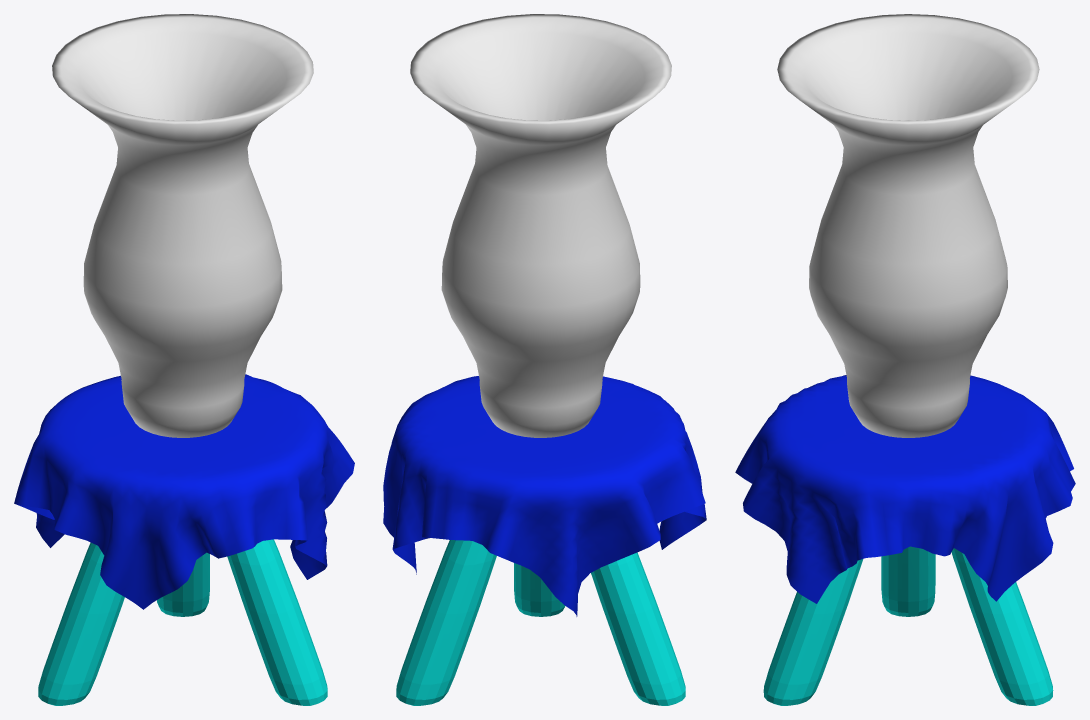
Rendered from bigescup.fbx.
The picture shows the model from 3 angles, left to right: view 1: azimuth 30°, elevation 25°; view 2: azimuth 150°, elevation 25°; view 3: azimuth 270°, elevation 25°; orthographic projection.
Visible parts, largest first — view 1: Cube.008; view 2: Cube.008; view 3: Cube.008.
Part boxes in pixels (bbox=[...]): Cube.008: bbox=[14, 14, 354, 705]; Cube.008: bbox=[383, 14, 706, 705]; Cube.008: bbox=[735, 14, 1075, 705].
Size of the model in its own units: 167 by 322 by 166.
